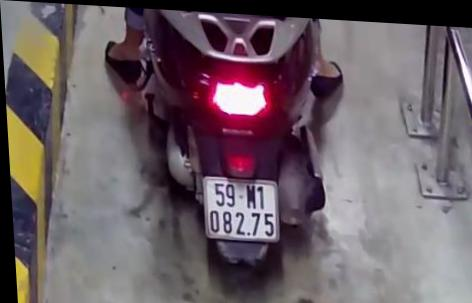License_Plate: (192, 167, 295, 248)
